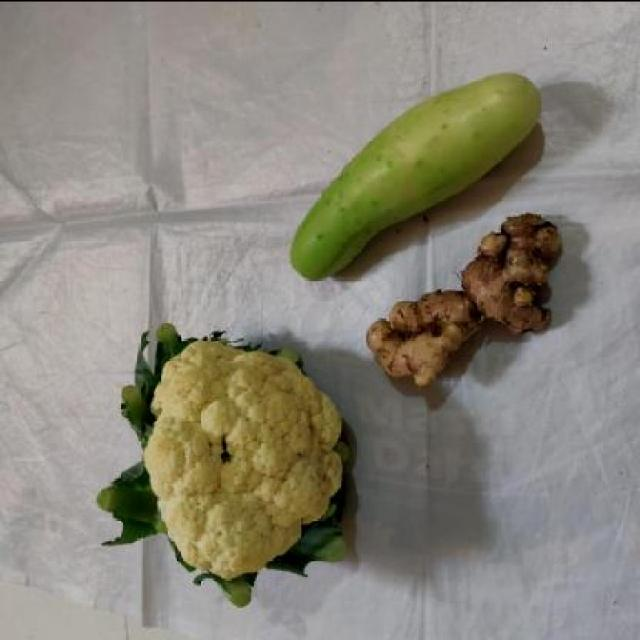Cauliflower: (116, 329, 356, 594)
Ginger: (466, 211, 562, 335), (366, 278, 474, 384)
cucumber: (291, 90, 484, 276)
